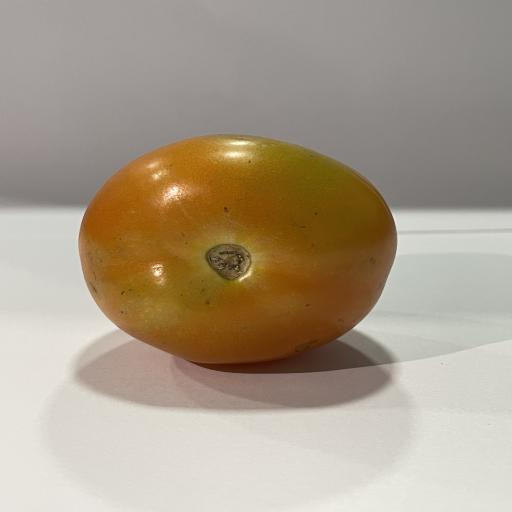unripe: (79, 135, 397, 363)
